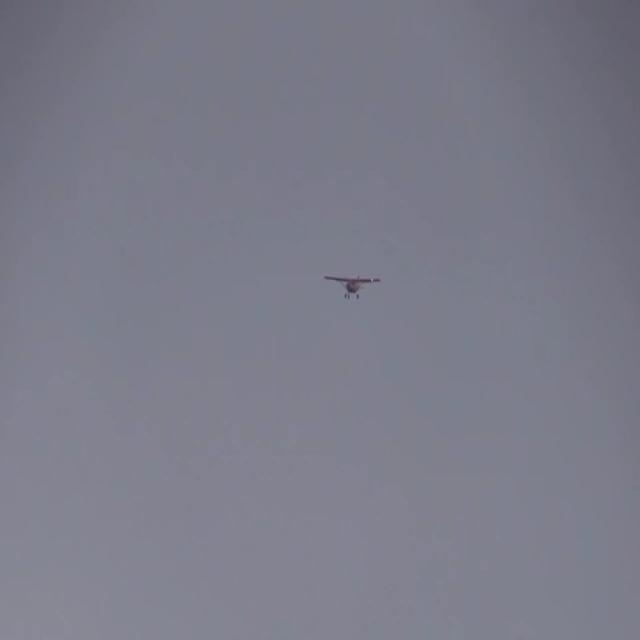AirPlane: (313, 255, 392, 318)
